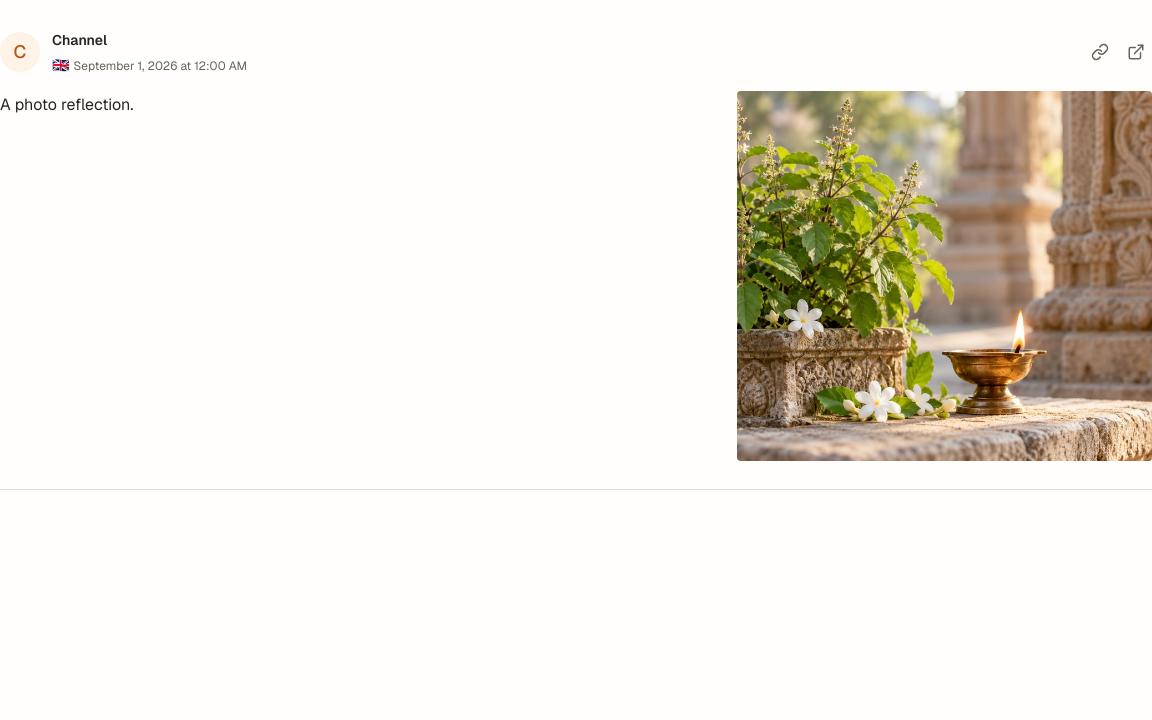
Test: PostCard journal layout › retains the lightbox for compact photos
Click the button named "openImage".
click(945, 276)  # box [737,91,1151,462]
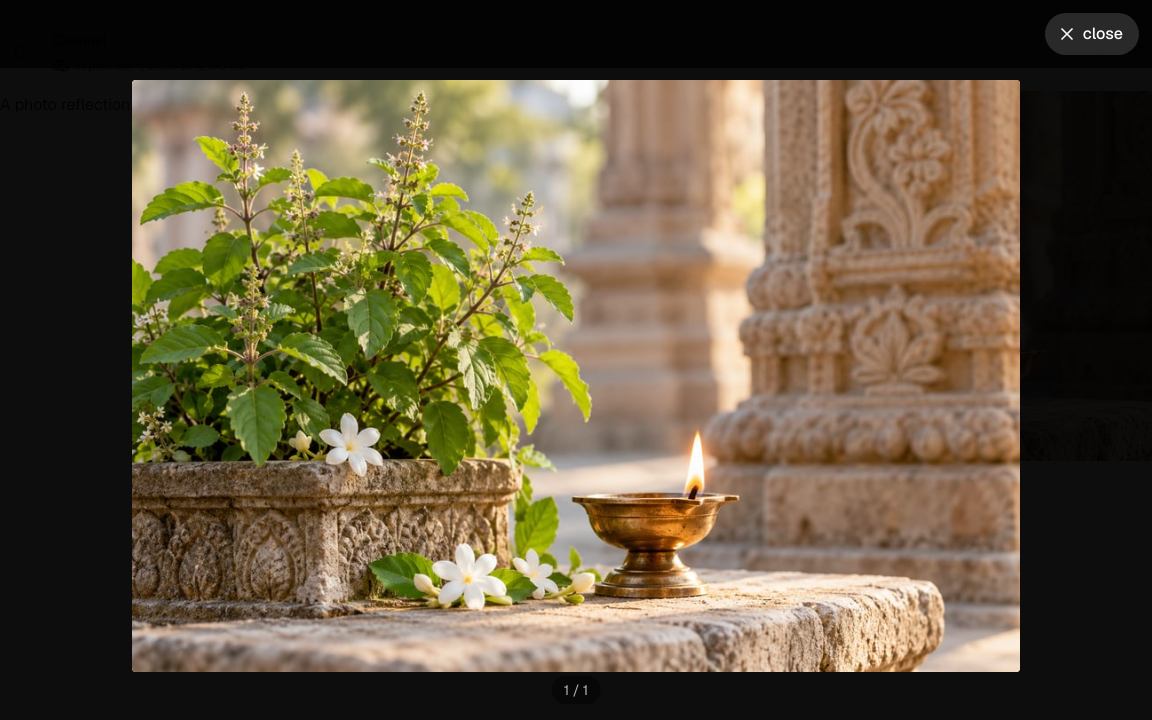
Check: the dialog is shown
Press Escape
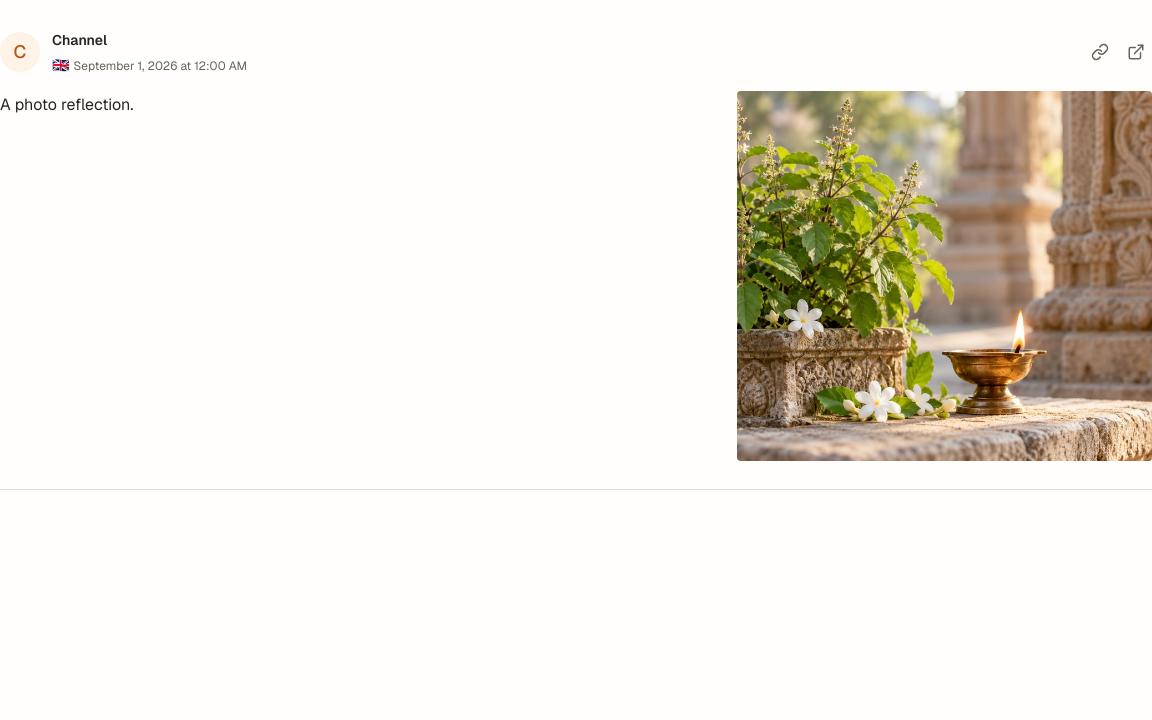
Check: the dialog is gone
